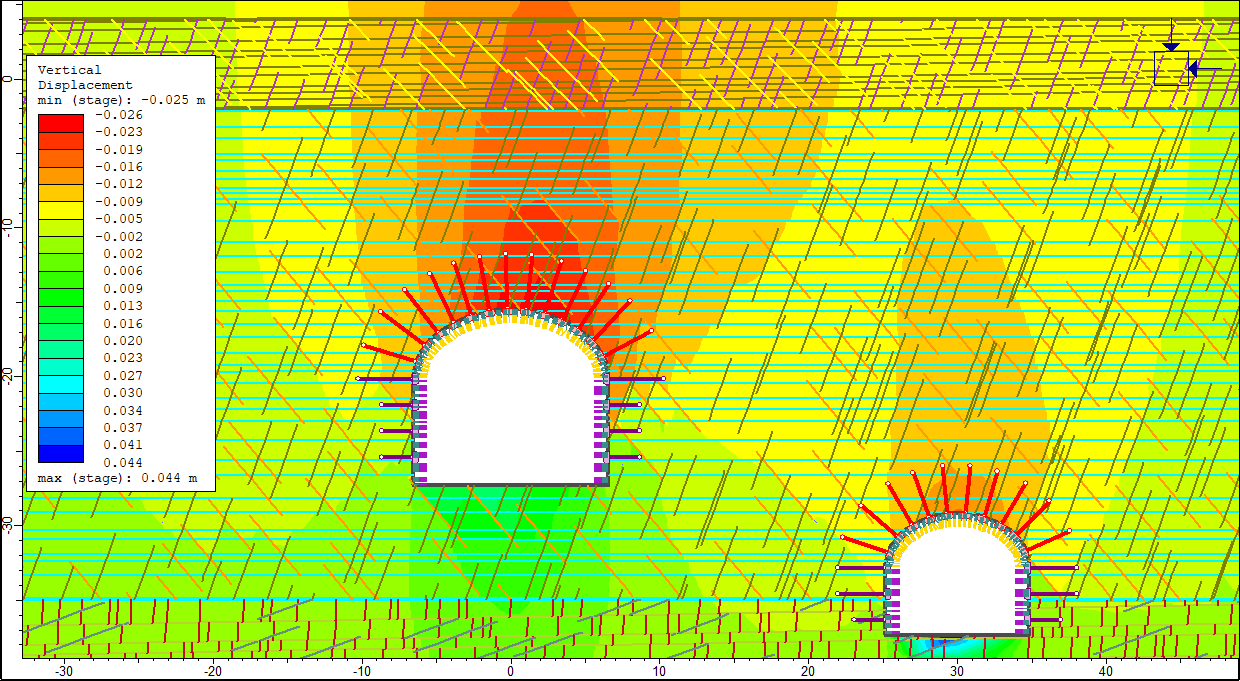crown: (465, 284, 553, 313), (928, 492, 988, 514)
label: (28, 56, 216, 491)
tunnel-opening: (411, 307, 608, 485), (884, 513, 1031, 635)
